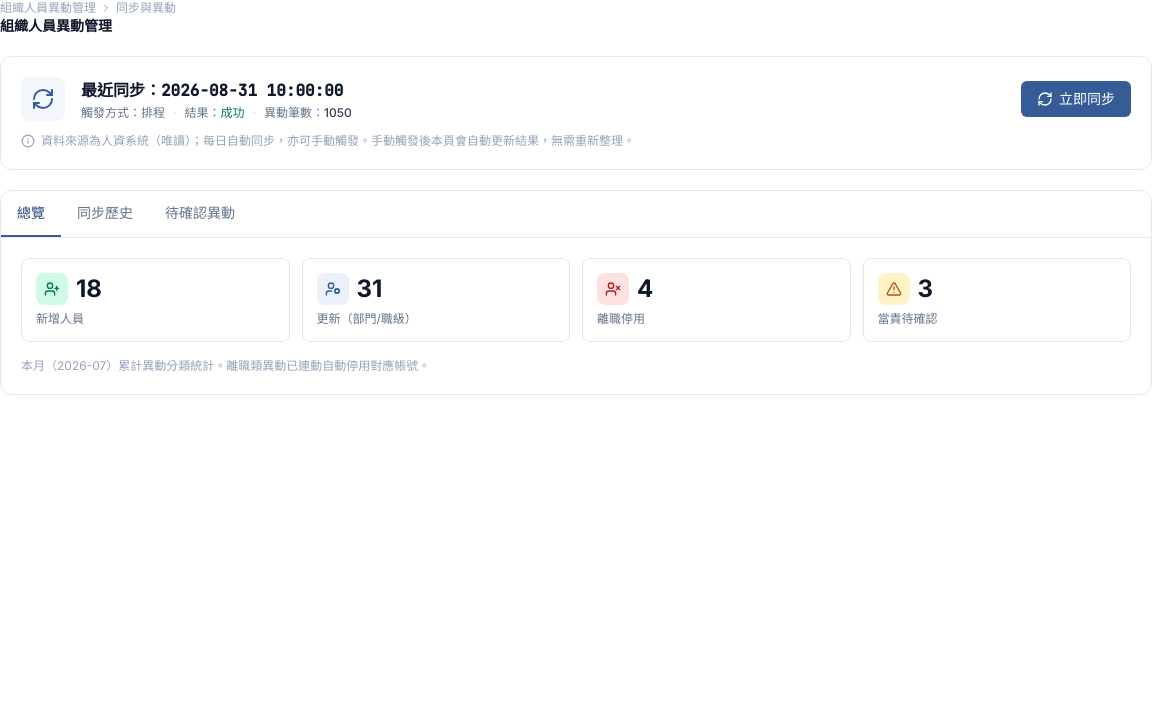
Scenario: OrgSyncPage — 同步狀態/歷史（US-011 回歸，移入頁籤後） › 角色推導被跳過之呈現與一次性放行 › 取消 → 不呼叫任何同步端點
The image size is (1152, 720).
Click the button "同步歷史" at [105, 214], box left=61, top=191, right=149, bottom=237
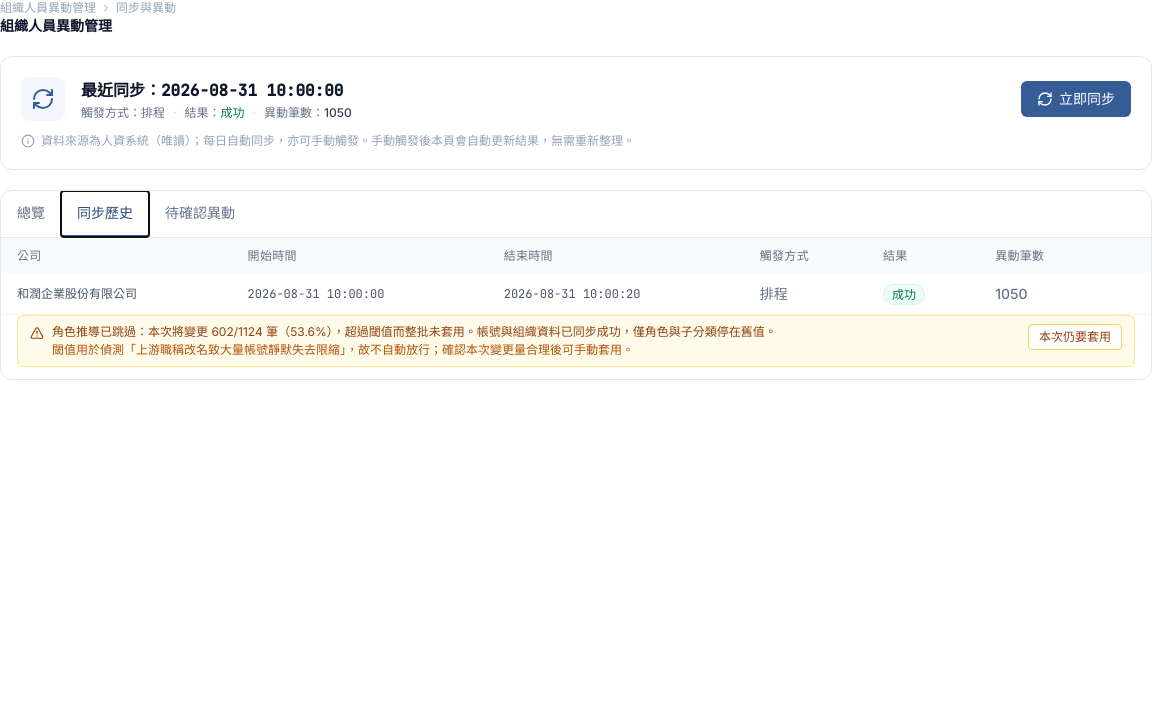
Click the button "本次仍要套用" at [1075, 337], box left=1028, top=324, right=1122, bottom=350
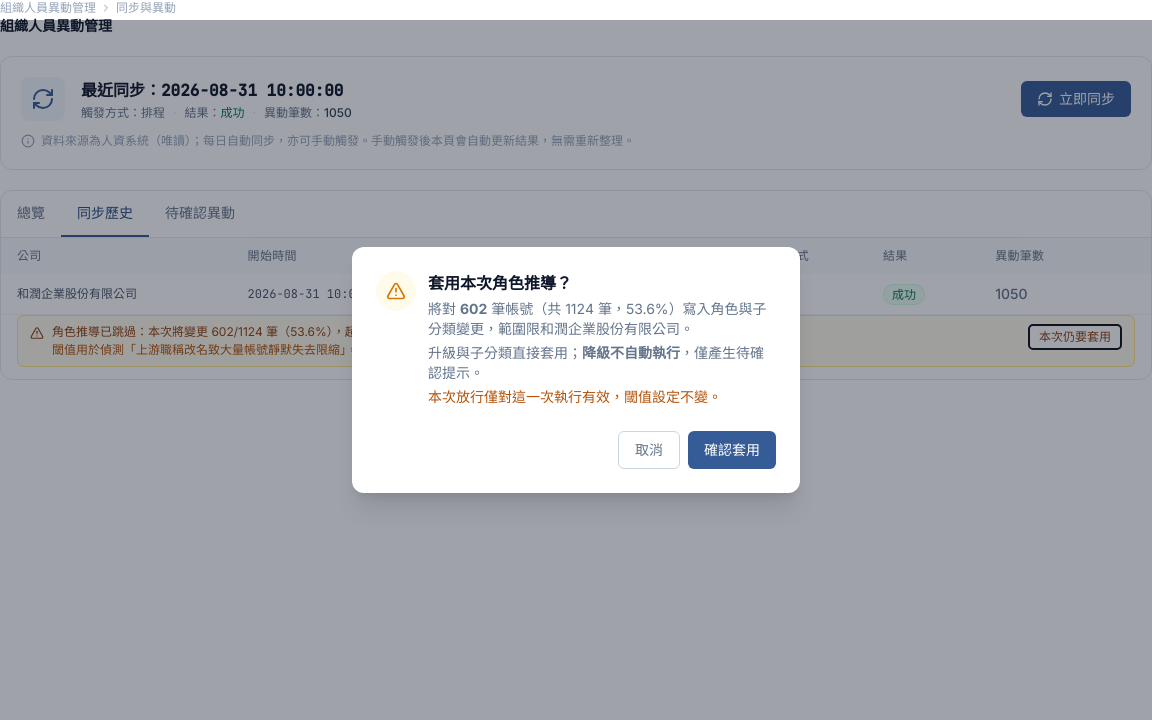
Click the button "取消" at [649, 450], box left=618, top=431, right=680, bottom=469
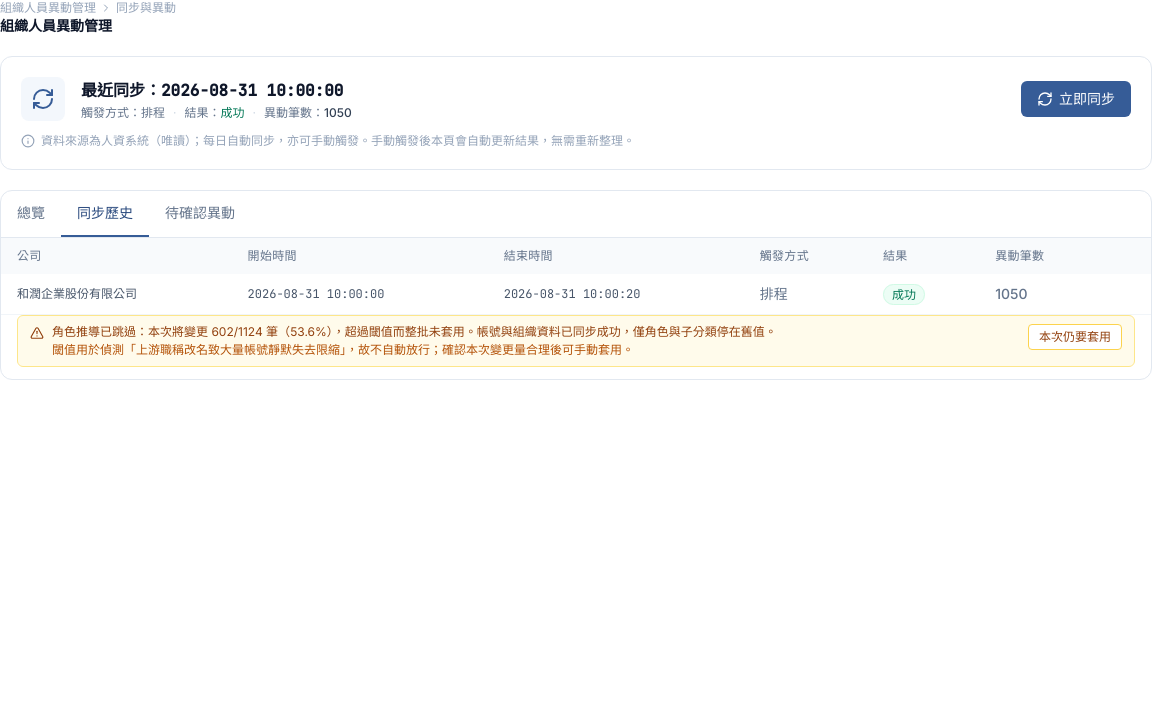
Result: the dialog is gone
